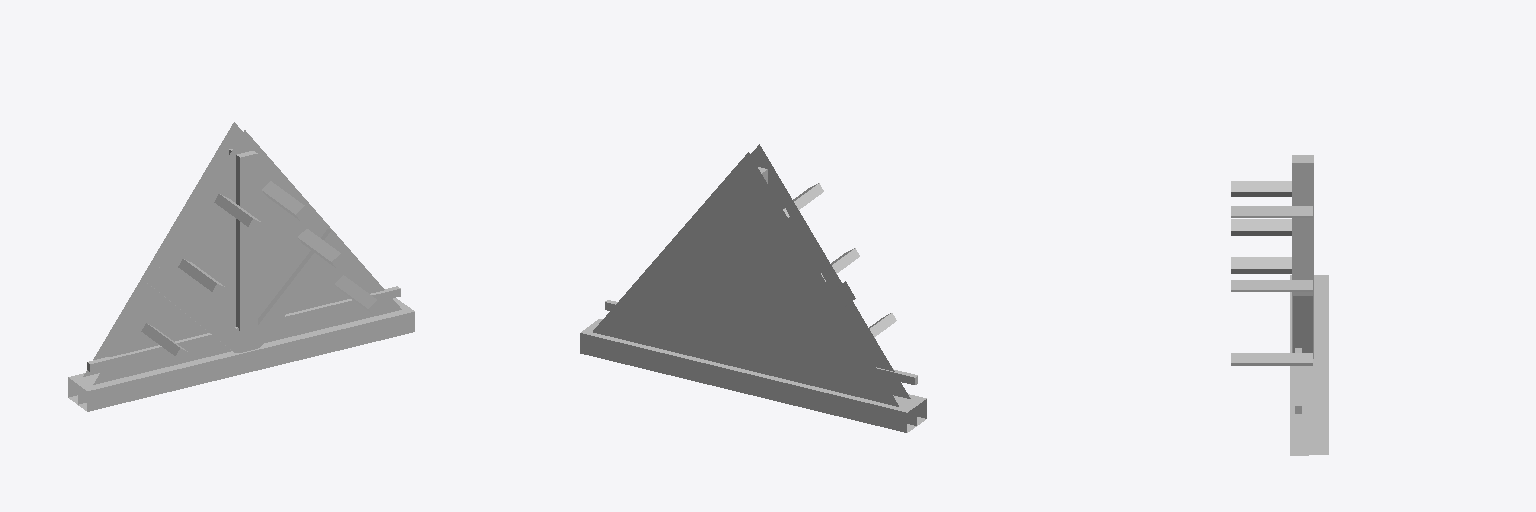
Rendered from Roof_Front_Wood4.obj.
The picture shows the model from 3 angles: view 1: azimuth 30°, elevation 25°; view 2: azimuth 150°, elevation 25°; view 3: azimuth 270°, elevation 25°; orthographic projection.
Visible parts, largest first — view 1: Roof_Front_Wood4; view 2: Roof_Front_Wood4; view 3: Roof_Front_Wood4.
Boxes of the visible parts, x1=… form: Roof_Front_Wood4: x1=68, y1=122, x2=414, y2=411; Roof_Front_Wood4: x1=580, y1=144, x2=926, y2=432; Roof_Front_Wood4: x1=1231, y1=155, x2=1328, y2=455.
Size of the model in its own units: 4.4 by 3.07 by 1.13.